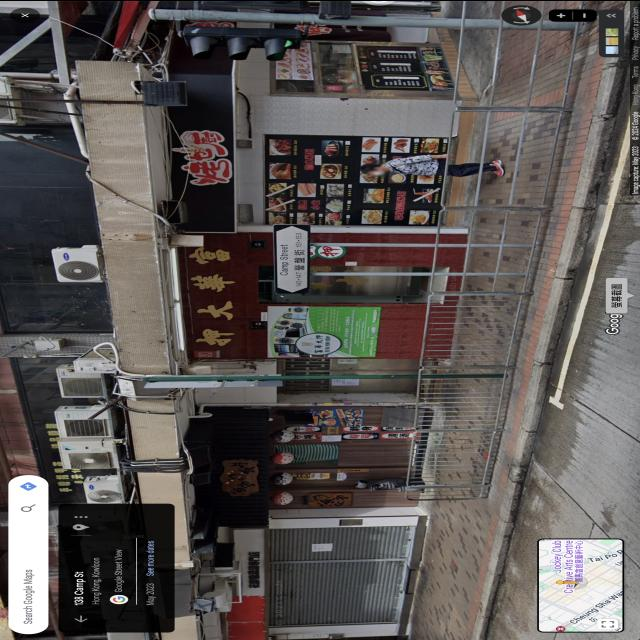Street-Direction-Sign: (273, 224, 310, 292)
